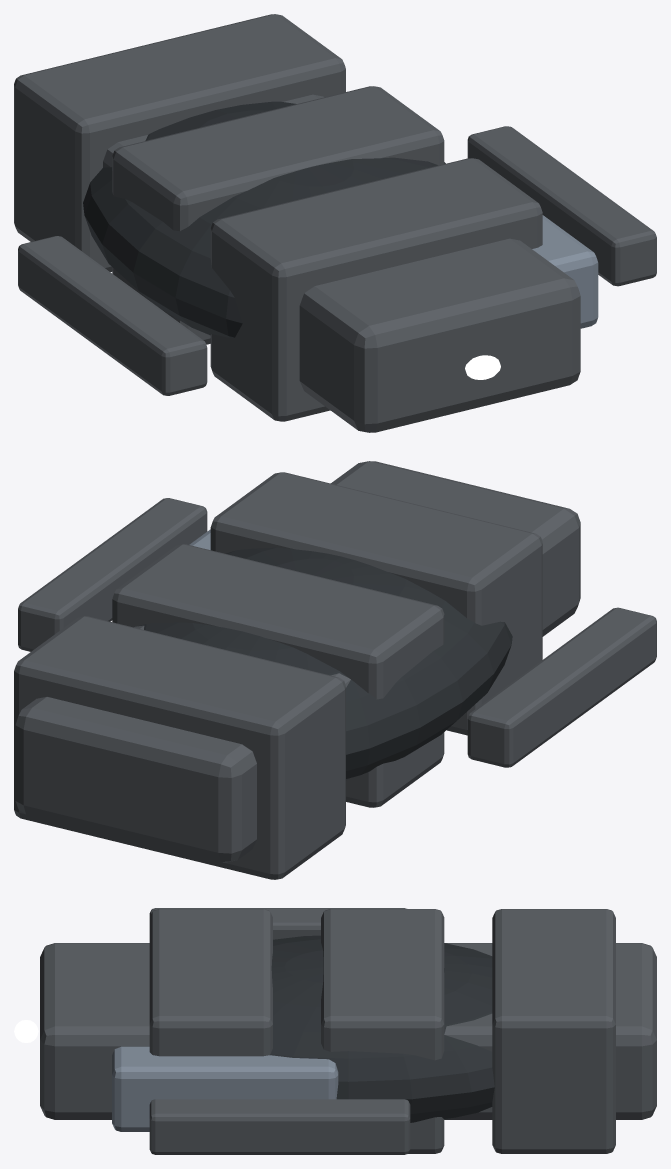
The picture shows the model from 3 angles, top to bottom: view 1: azimuth 30°, elevation 25°; view 2: azimuth 150°, elevation 25°; view 3: azimuth 270°, elevation 25°; orthographic projection. The views are drawn at different scales.
Visible parts, largest first — view 1: RIMWARD_HULL, RIMWARD_ENGINE_GLOW; view 2: RIMWARD_HULL; view 3: RIMWARD_HULL, RIMWARD_ENGINE_GLOW.
Part boxes in pixels (x1,y1,x2,y2): RIMWARD_HULL: (14,14,656,432); RIMWARD_ENGINE_GLOW: (465,355,500,379); RIMWARD_HULL: (14,461,656,879); RIMWARD_HULL: (40,908,656,1154); RIMWARD_ENGINE_GLOW: (14,1020,38,1042).
Size of the model in its own units: 61.71 by 18.86 by 79.73.
